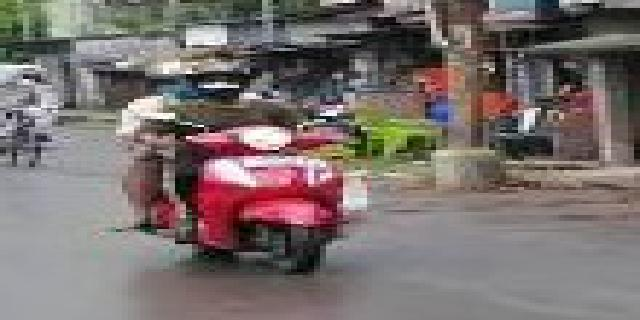Motorbike: (128, 81, 368, 283)
